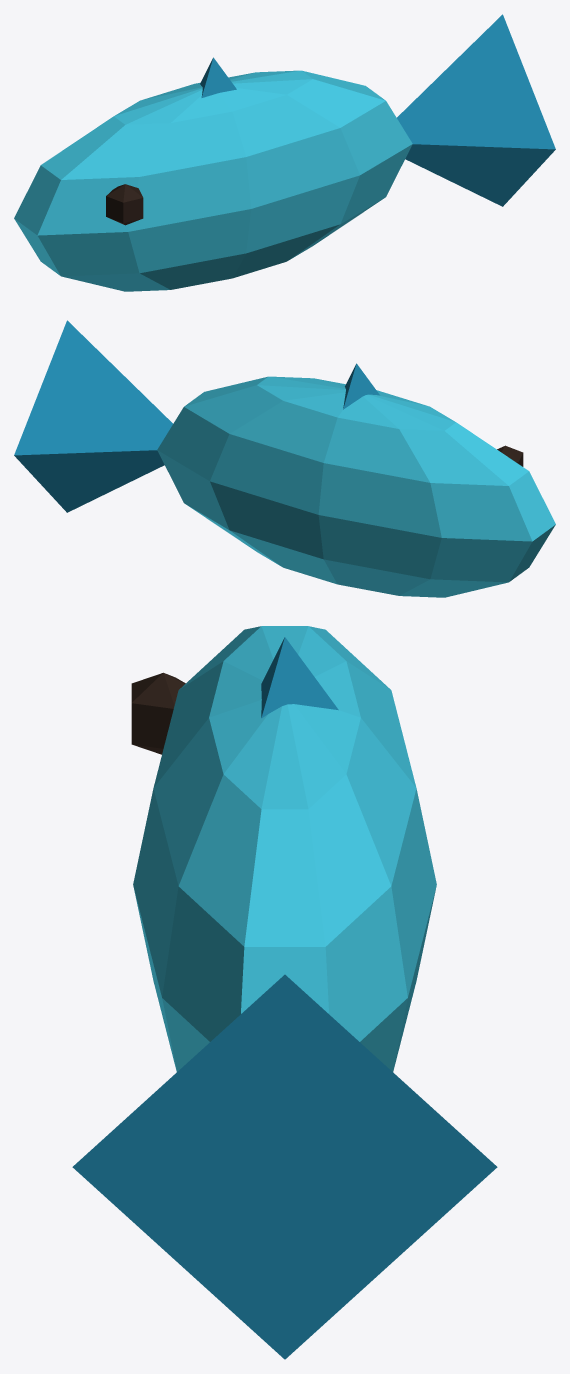
File: good_fish.glb
The picture shows the model from 3 angles, top to bottom: view 1: azimuth 30°, elevation 25°; view 2: azimuth 150°, elevation 25°; view 3: azimuth 270°, elevation 25°; orthographic projection. The views are drawn at different scales.
Visible parts, largest first — view 1: good_fish; view 2: good_fish; view 3: good_fish.
Part boxes in pixels (bbox=[...]): good_fish: bbox=[14, 14, 555, 291]; good_fish: bbox=[14, 320, 555, 597]; good_fish: bbox=[72, 626, 497, 1359].
Size of the model in its own units: 0.3627 by 0.16 by 0.14.
